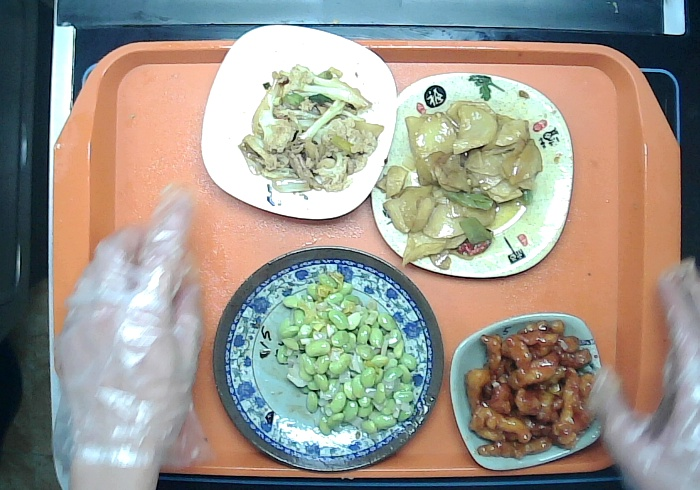NLDX-Bai_Se_Xiao_Fang_Die: (198, 22, 397, 221)
NLDX-Fu_Zi_Fang_Die: (372, 70, 575, 280)
NLDX-Qing_Hua_Xiao_Fang_Die: (446, 309, 602, 472)
NLDX-Qing_Hua_Yuan_Die: (211, 245, 441, 475)
